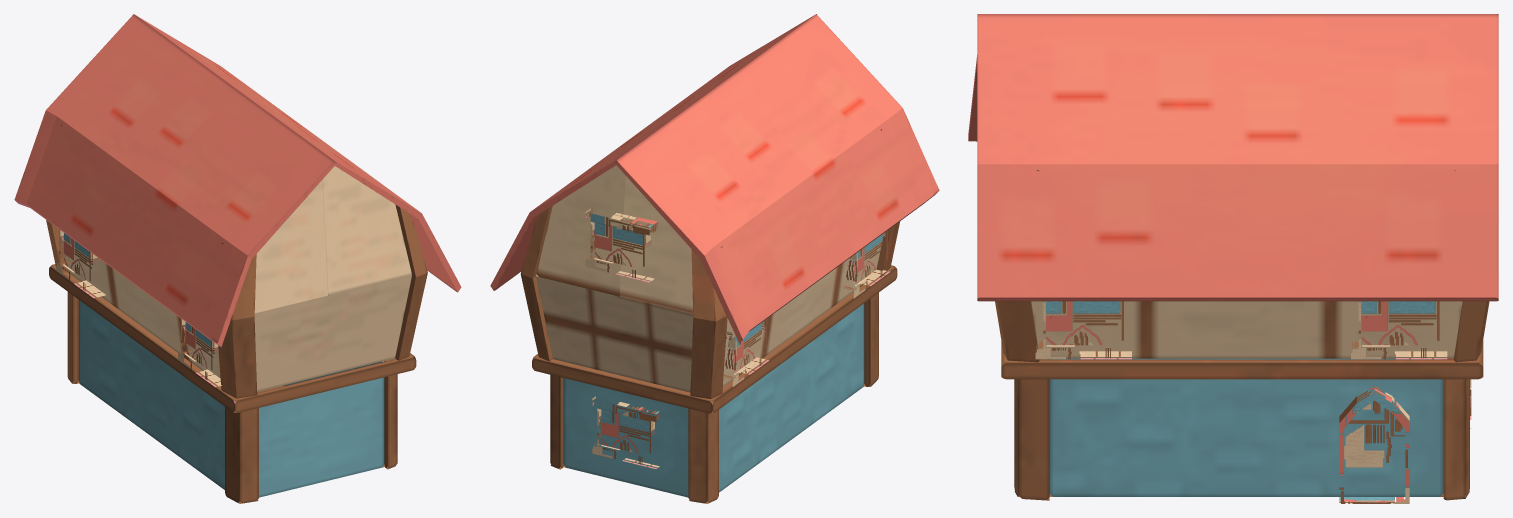
File: House.fbx
3 renders of one model, left to right at view 1: azimuth 30°, elevation 25°; view 2: azimuth 150°, elevation 25°; view 3: azimuth 270°, elevation 25°, orthographic. The views are drawn at different scales.
Parts seen in each view (by area): view 1: cube, cube_4, cube_5; view 2: cube, cube_6, cube_7, cube_4, cube_5; view 3: cube, cube_1, cube_2, cube_3.
Boxes of the visible parts, bbox=[...] form: cube: bbox=[14, 14, 461, 503]; cube_4: bbox=[56, 229, 105, 298]; cube_5: bbox=[178, 318, 221, 387]; cube: bbox=[490, 14, 939, 503]; cube_6: bbox=[585, 207, 657, 282]; cube_7: bbox=[592, 396, 659, 468]; cube_4: bbox=[723, 319, 769, 386]; cube_5: bbox=[842, 230, 890, 298]; cube: bbox=[968, 14, 1498, 500]; cube_1: bbox=[1339, 386, 1409, 503]; cube_2: bbox=[1351, 301, 1447, 359]; cube_3: bbox=[1035, 301, 1131, 359].
Size of the model in its own units: 267 by 342 by 378.
3 materials, 3 textured.
